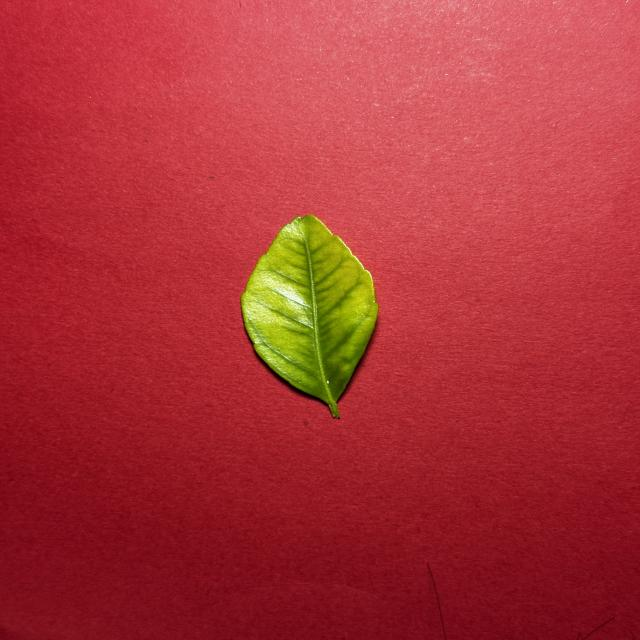greening: (241, 215, 378, 417)
